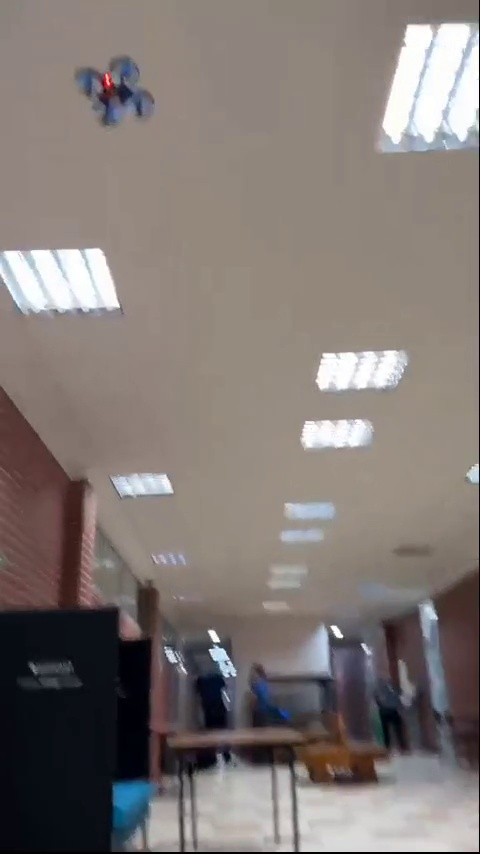drone: (75, 57, 158, 120)
no vest: (191, 656, 236, 778), (240, 662, 288, 736), (375, 671, 415, 757)
